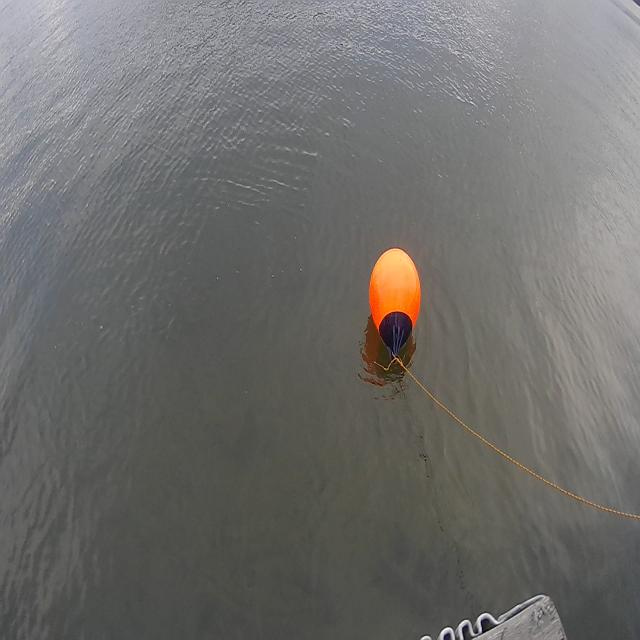Buoy: (366, 234, 424, 366)
